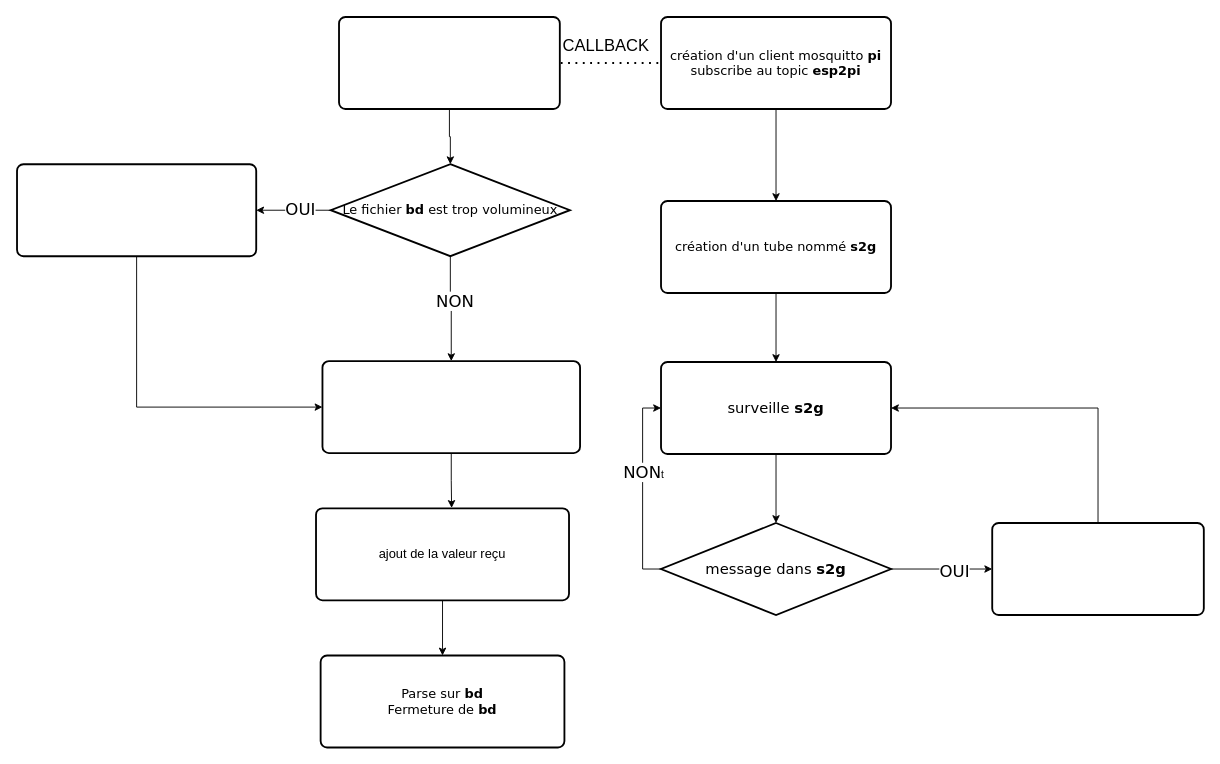
This 1220x764 diagram has some shape labels left out. The centre of each missing label's shape, as x and y in pixels:
lance le script de nettoyage de bd: the point at 136,210
message reçu sur le topic esp2pi: the point at 449,62
Ouverture du descripteur sur bd Fetch de bd: the point at 451,407
publish le message de s2g sur le topic pi2esp: the point at 1097,568
